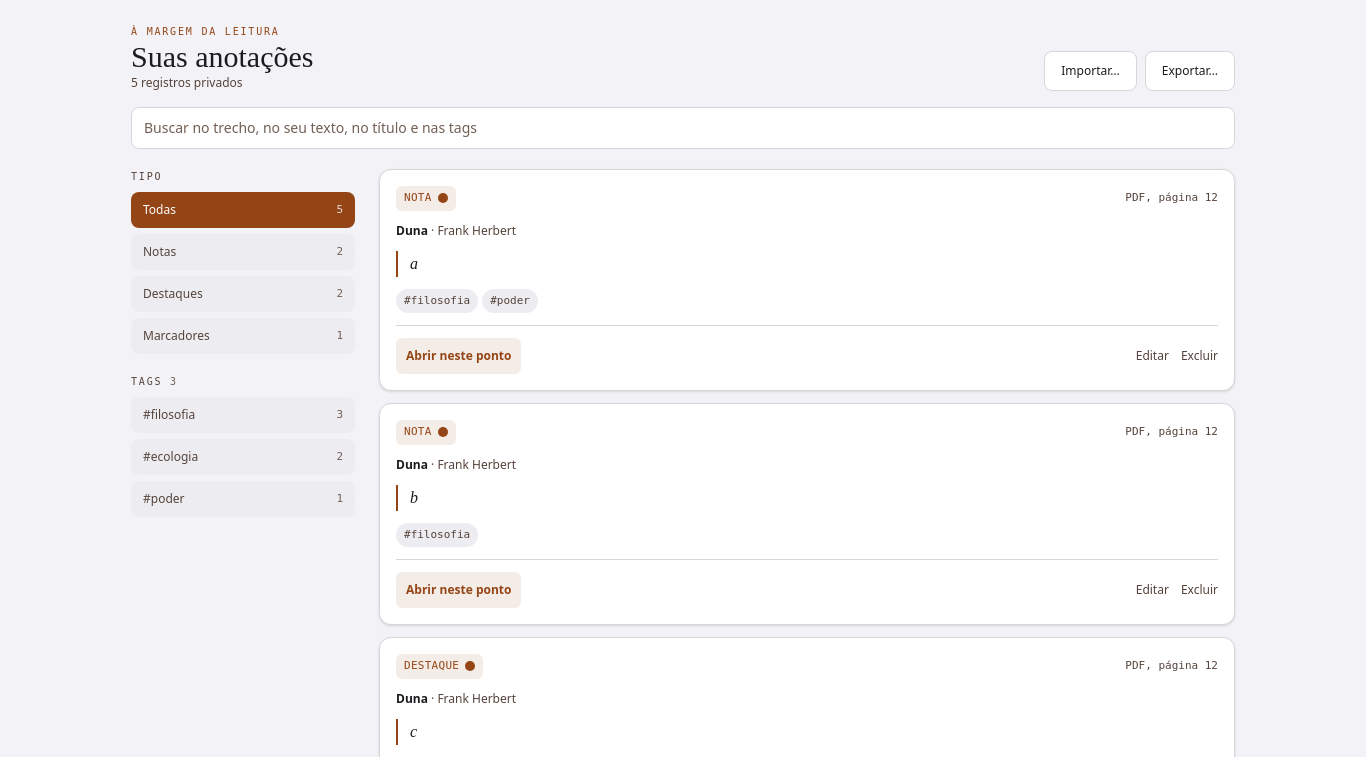
Test: NotesPage, the panel that narrows the list › narrows the list by a tag from the panel, and the kinds follow while the tags do not
This screenshot has width=1366, height=757.
Click the button "#ecologia 2" at x=243, y=457, box [131,439,355,475]
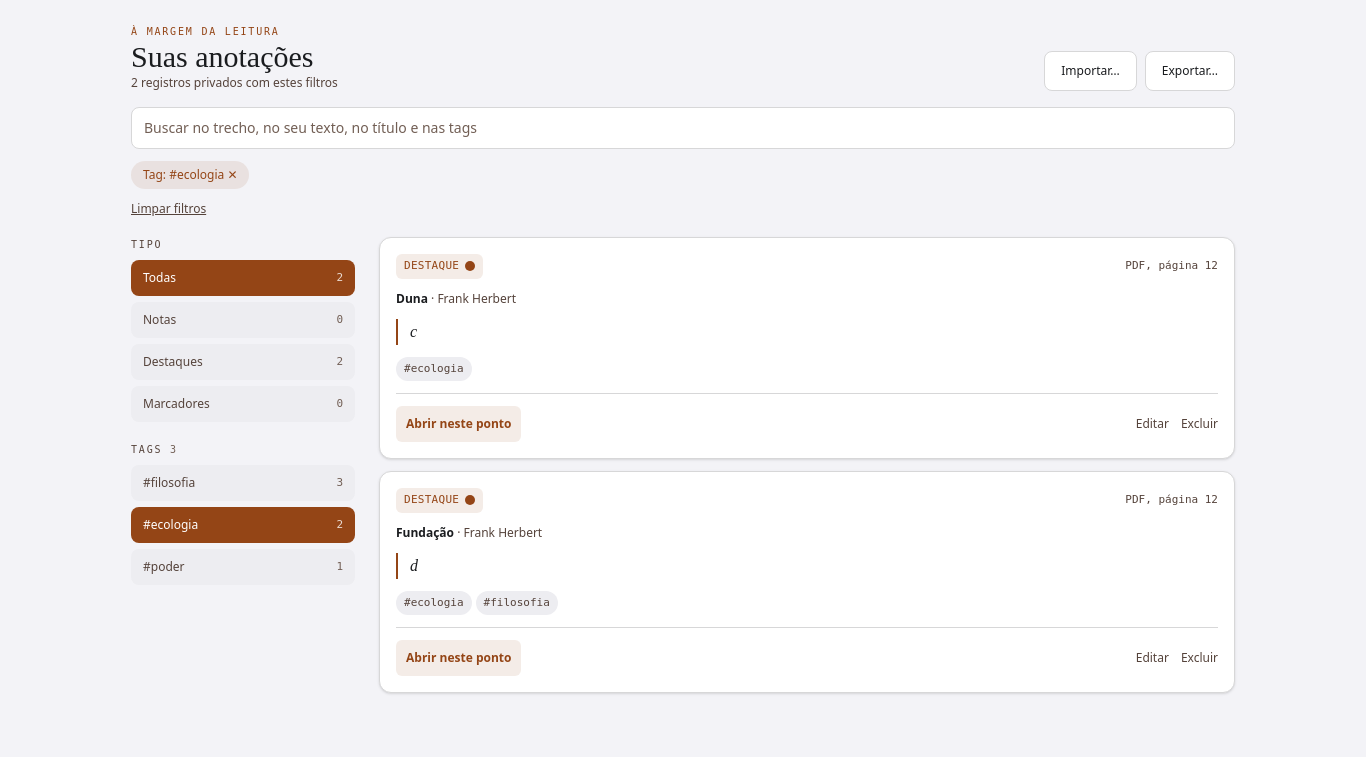
Expected: the button "Destaques 2" is shown, [131,344,355,380]
Expected: the button "Notas 0" is shown, [131,302,355,338]
A click on it again takes it away.
Click the button "#ecologia 2" at x=243, y=525, box [131,507,355,543]
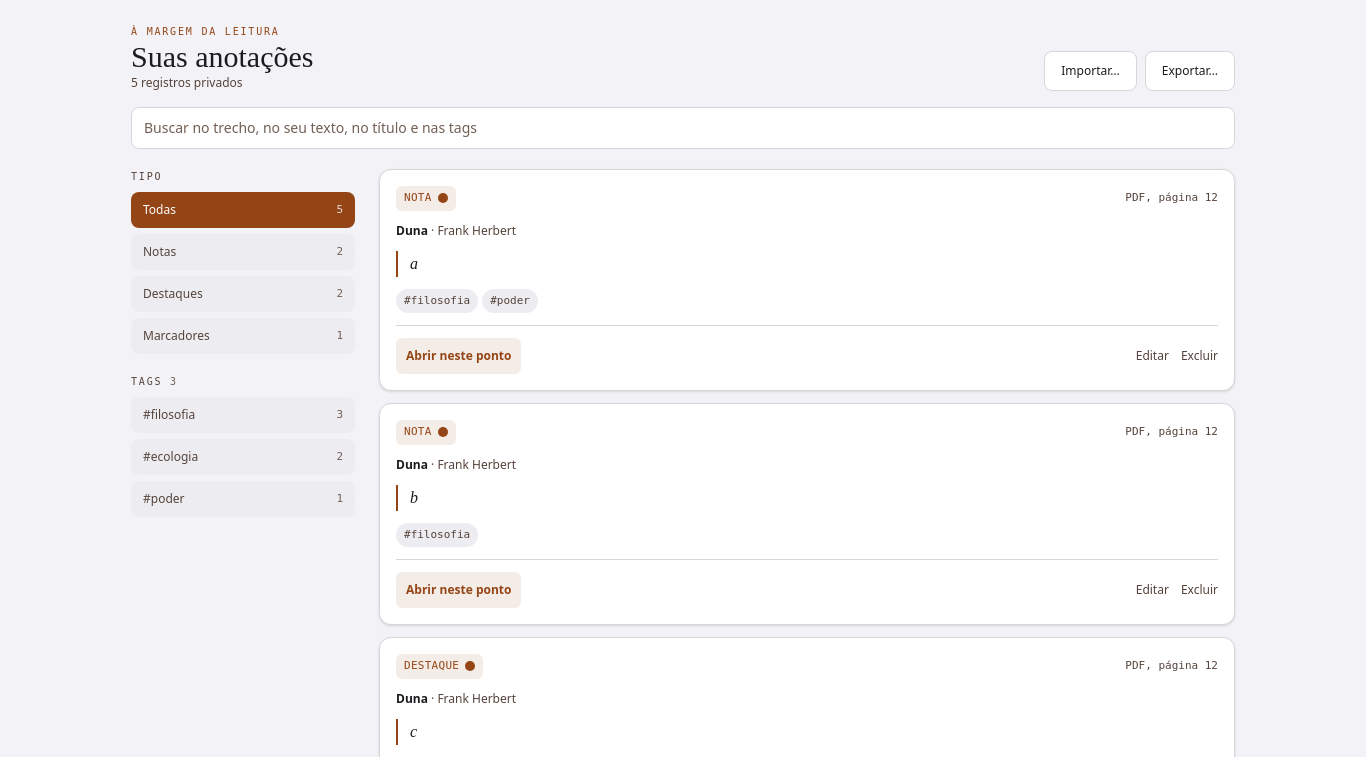
Expected: the button "Notas 2" is shown, [131,234,355,270]
